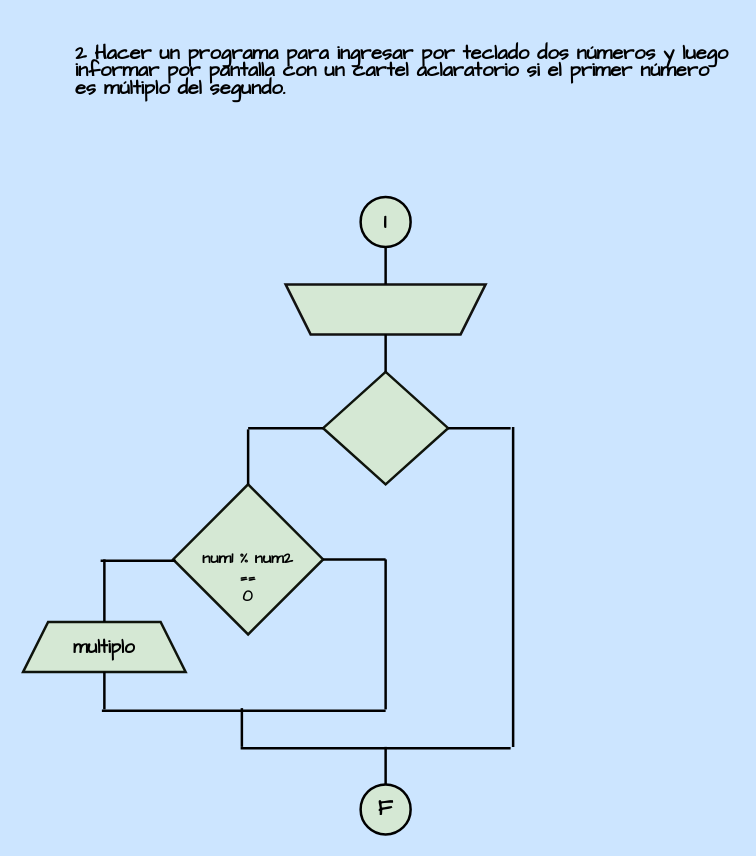
The diagram is 756 pixels wide and 856 high, and some of its shapes have lost their labels. Each missing label, with the box of its shape:
num1, num2: (284, 282, 486, 335)
num2 != 0: (321, 370, 449, 485)
